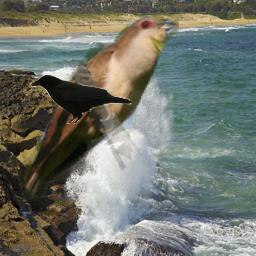Crow: (27, 72, 132, 124)
Cuckoo: (17, 15, 179, 205)
